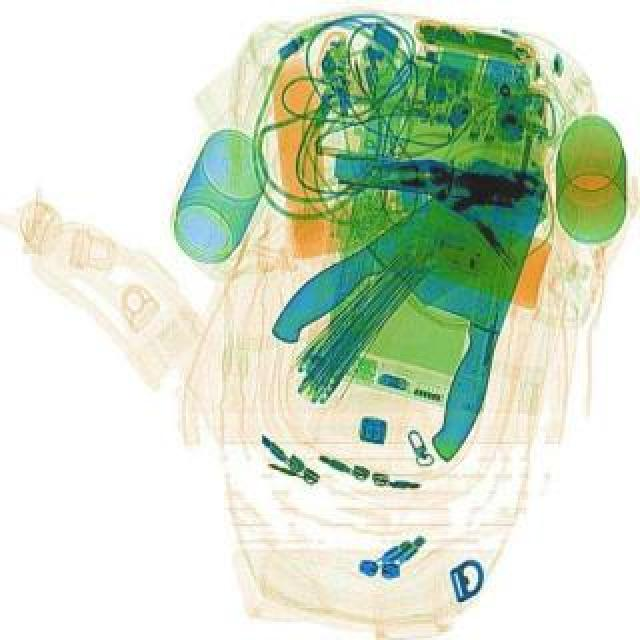gun: (258, 146, 554, 388), (374, 152, 554, 464)
